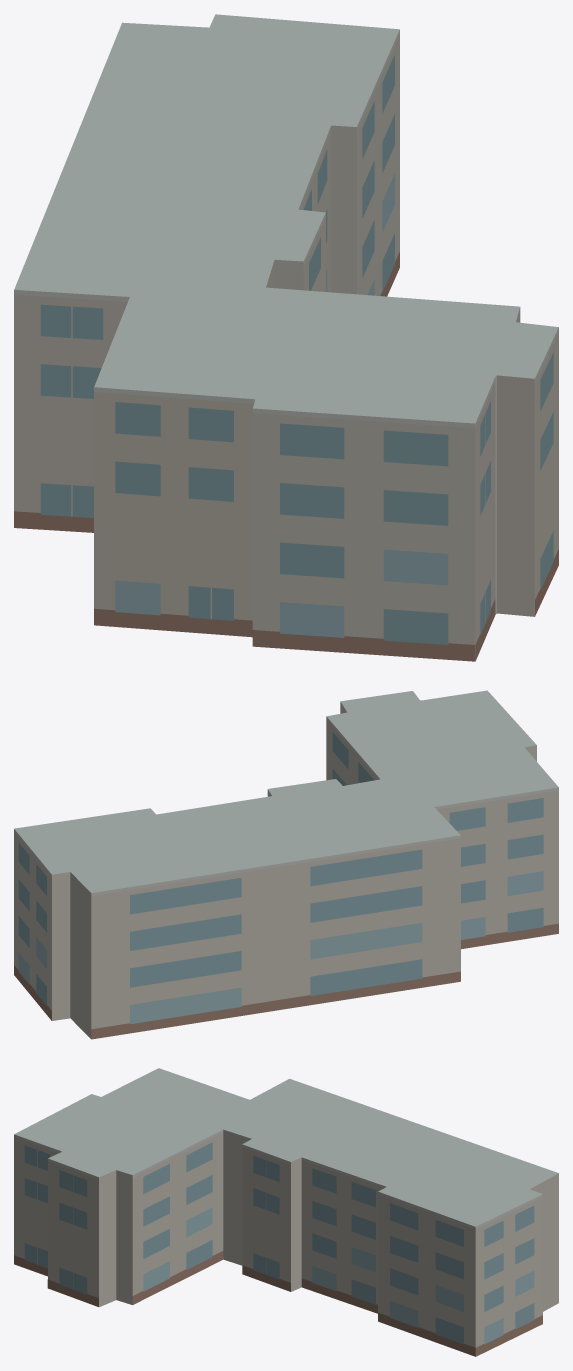
The model's file is survey-upis-32634706.glb.
3 views of the same model, one above another, from view 1: azimuth 30°, elevation 25°; view 2: azimuth 150°, elevation 25°; view 3: azimuth 270°, elevation 25° (orthographic). The views are drawn at different scales.
Parts seen in each view (by area): view 1: survey-upis-32634706.tmp; view 2: survey-upis-32634706.tmp; view 3: survey-upis-32634706.tmp.
Boxes of the visible parts, x1,y1,x2,y2 form: survey-upis-32634706.tmp: [14, 14, 558, 661]; survey-upis-32634706.tmp: [14, 690, 558, 1039]; survey-upis-32634706.tmp: [14, 1068, 558, 1356].
Bounding box in the file's own units: 31.97 × 12.2 × 46.35.
